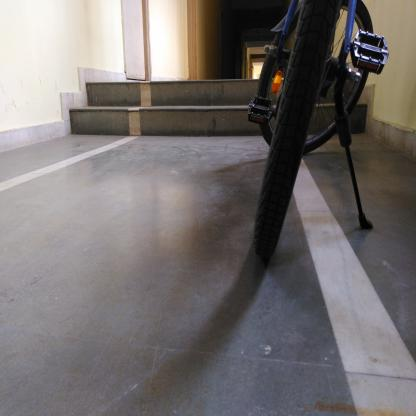stairs: (89, 80, 245, 140)
